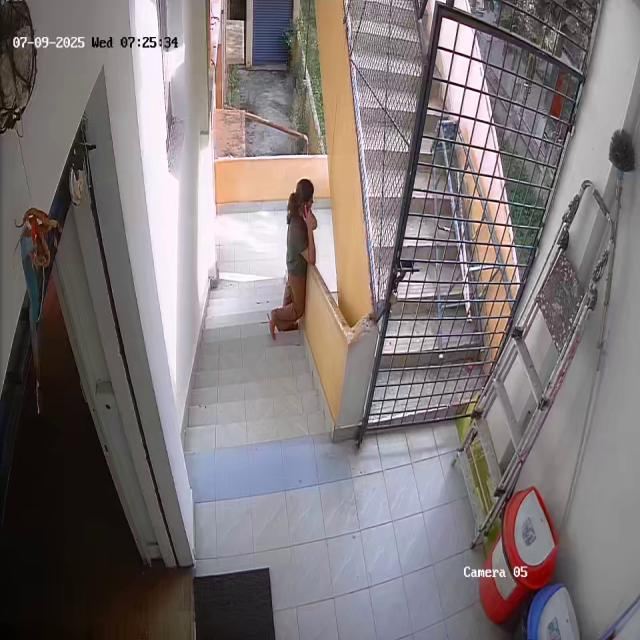person: (270, 177, 316, 329)
